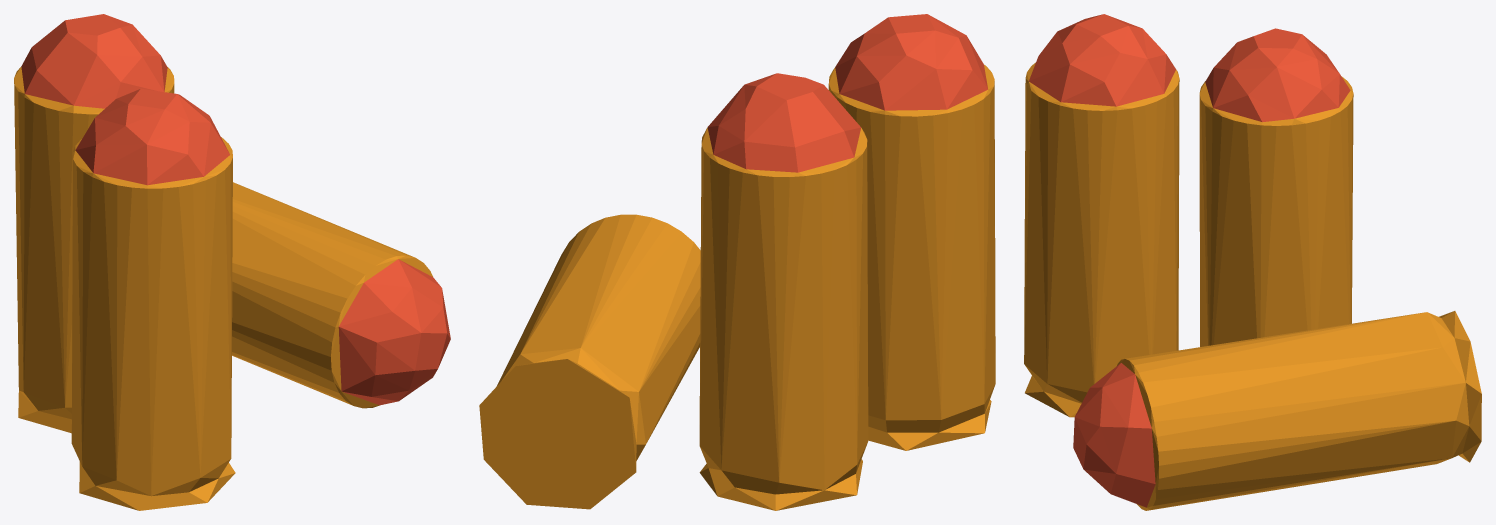
File: Bullets.fbx
3 views of the same model, side by side, from view 1: azimuth 30°, elevation 25°; view 2: azimuth 150°, elevation 25°; view 3: azimuth 270°, elevation 25° (orthographic). The views are drawn at different scales.
Parts seen in each view (by area): view 1: Cone; view 2: Cone; view 3: Cone.
Part boxes in pixels (<box>): Cone: <box>14,14,450,510</box>; Cone: <box>479,14,995,510</box>; Cone: <box>1024,14,1481,510</box>.
Bounding box in the file's own units: 557 × 520 × 595.
